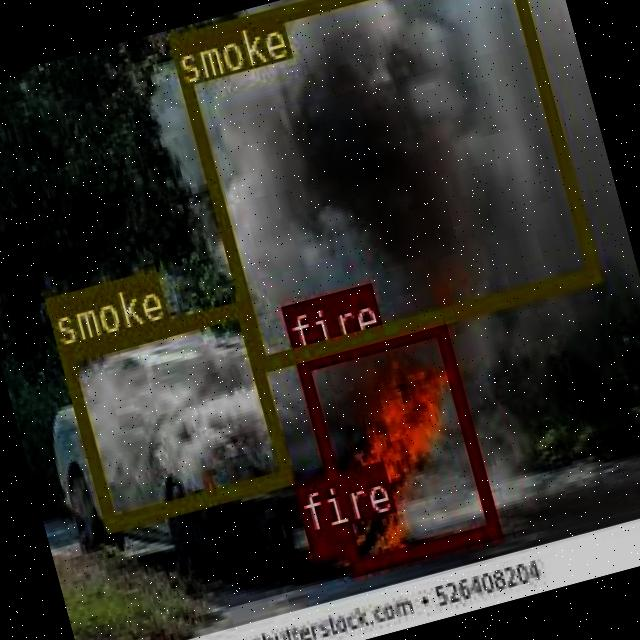fire: (292, 316, 497, 574), (304, 524, 344, 558)
smoke: (166, 0, 597, 370), (57, 300, 291, 530)
